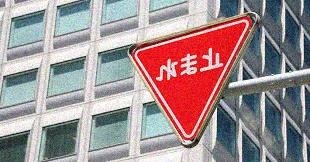Regulatory_sign_triangle: (133, 14, 258, 147)
